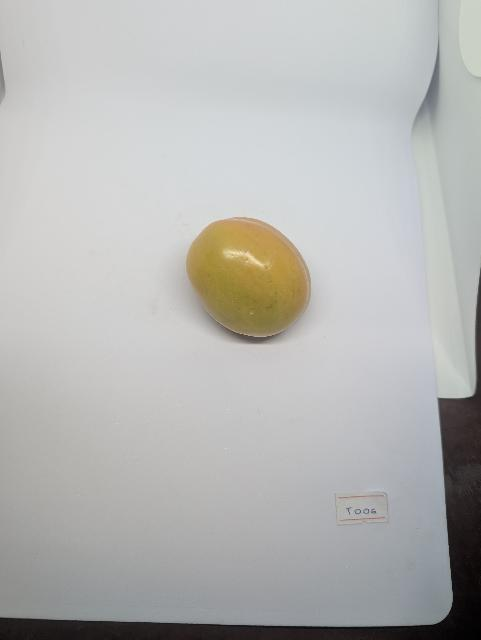breaker: (176, 209, 319, 351)
